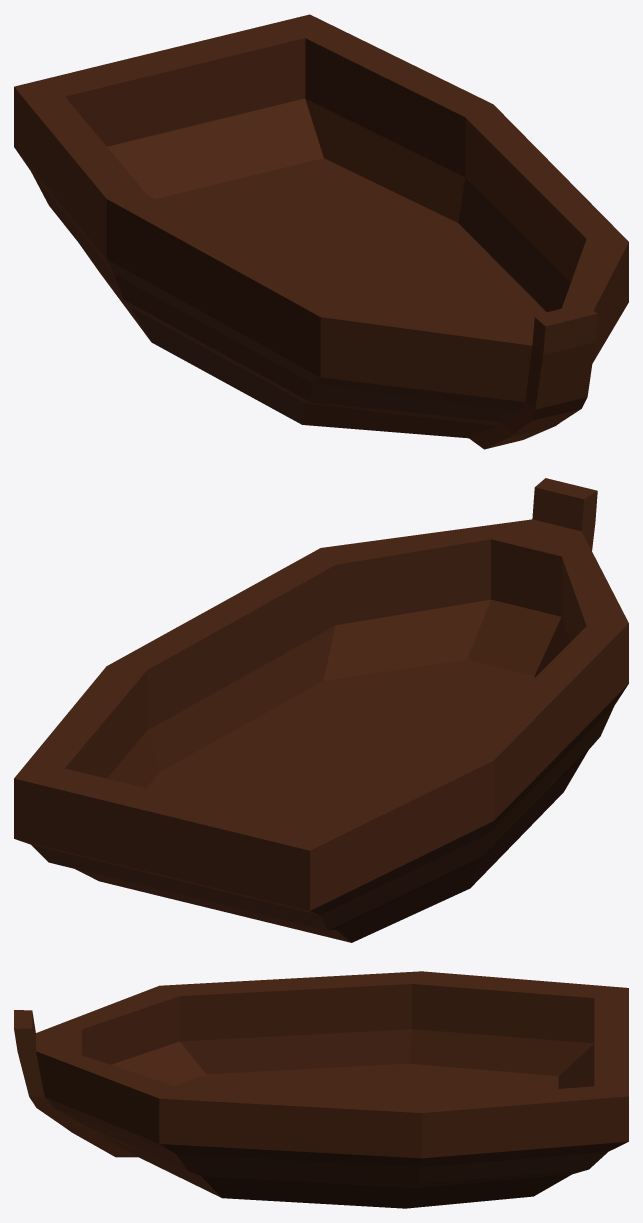
File: Boat.glb
3 views of the same model, one above another, from view 1: azimuth 30°, elevation 25°; view 2: azimuth 150°, elevation 25°; view 3: azimuth 270°, elevation 25° (orthographic). The views are drawn at different scales.
Visible parts, largest first — view 1: Boat; view 2: Boat; view 3: Boat.
Part boxes in pixels (<box>): Boat: <box>14,14,628,449</box>; Boat: <box>14,478,628,942</box>; Boat: <box>14,971,628,1208</box>.
Bounding box in the file's own units: 36.45 × 15.69 × 66.84.
